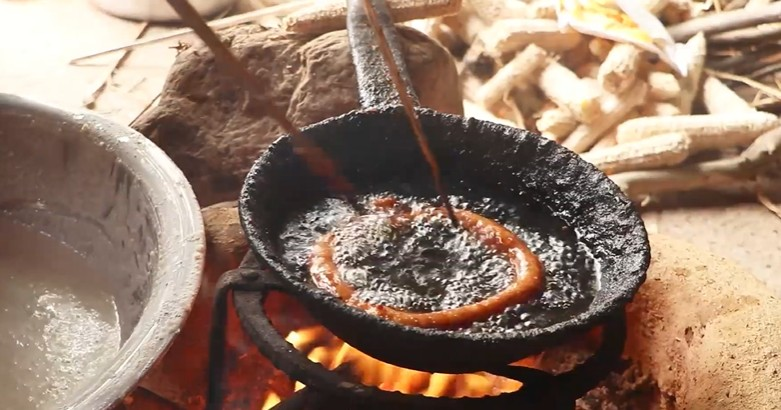sel_roti: (314, 195, 541, 322)
